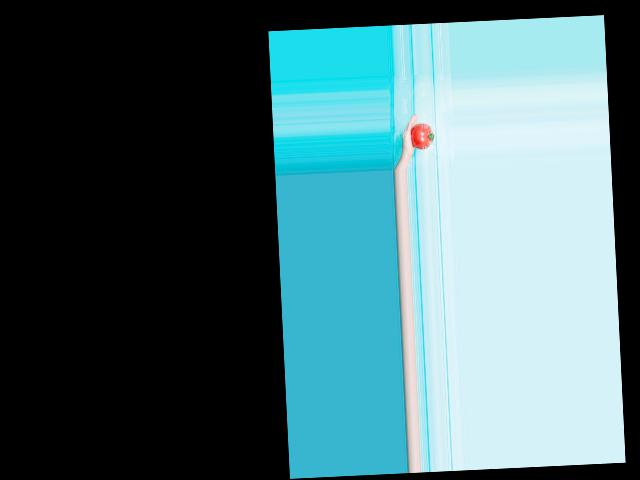tomato: (409, 122, 434, 149)
